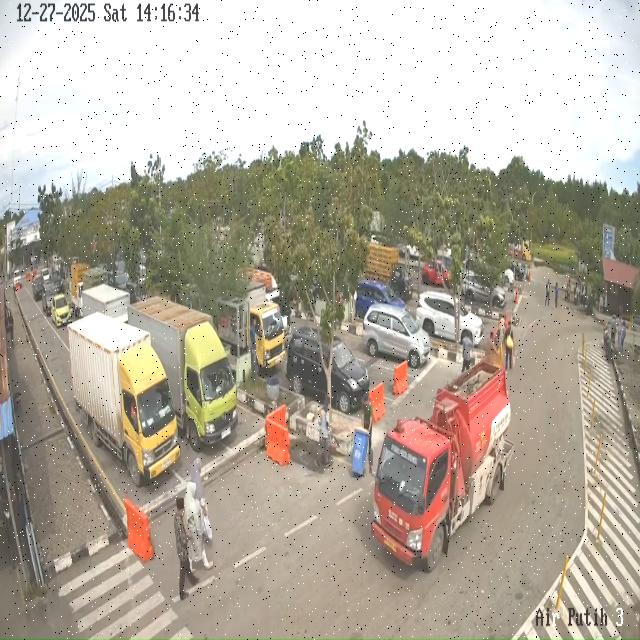Golongan IVA: (286, 327, 370, 414), (362, 304, 431, 369), (416, 290, 484, 346), (355, 280, 406, 319), (462, 272, 506, 308), (422, 259, 449, 286), (51, 294, 71, 328), (42, 281, 59, 315), (32, 275, 45, 301)
Golongan VB: (372, 360, 514, 570), (68, 313, 180, 486), (128, 297, 238, 451), (218, 281, 286, 369)
